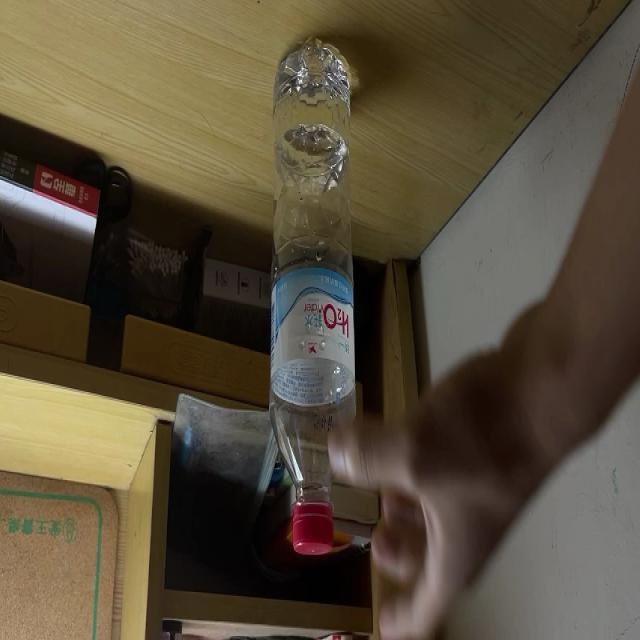Water: (271, 36, 357, 556)
